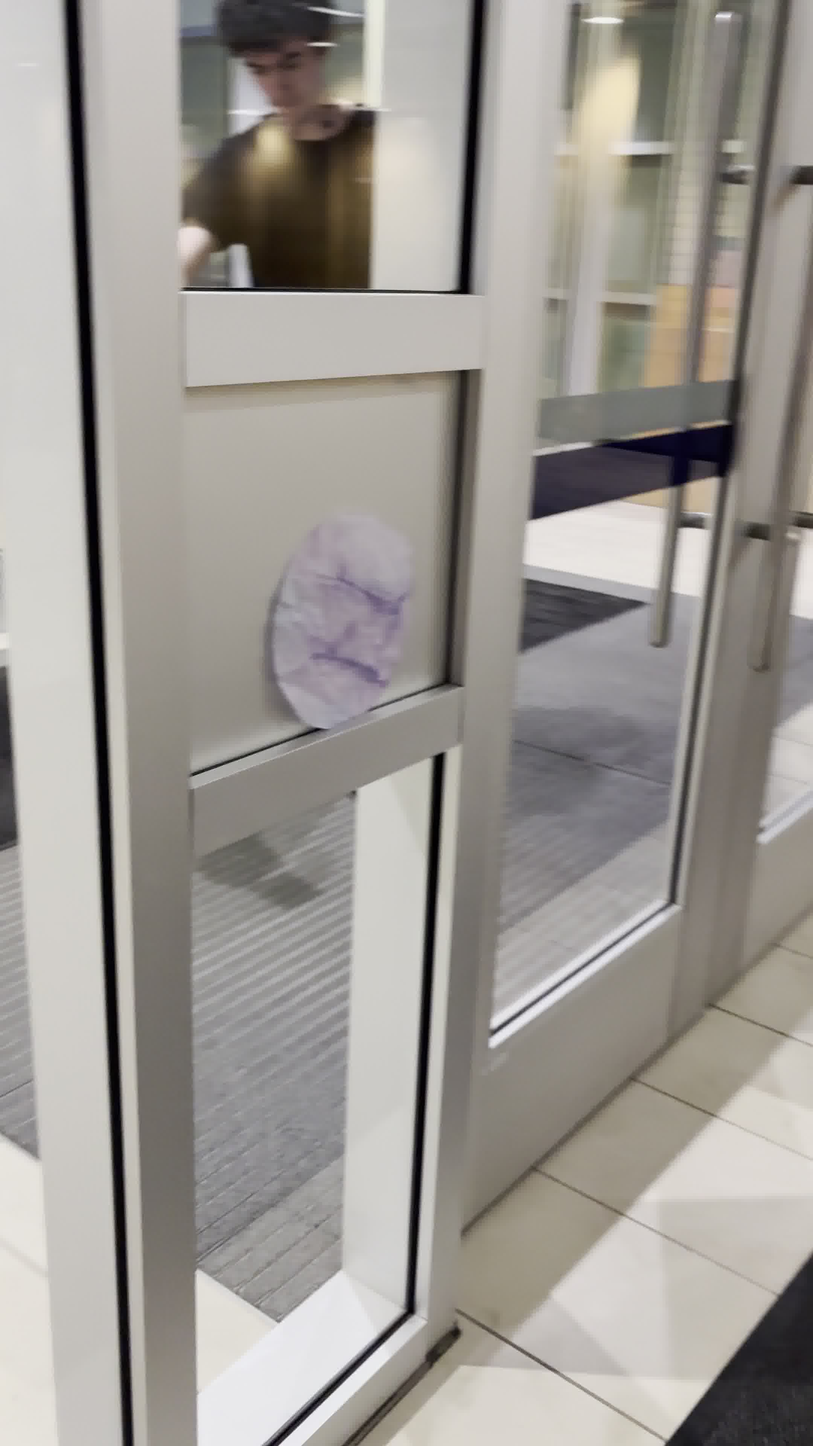Target: (265, 510, 419, 735)
